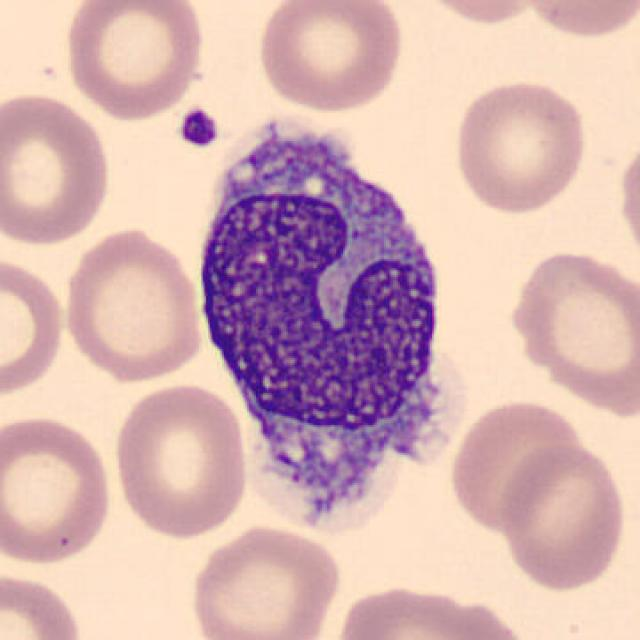Monocyte: (190, 97, 468, 543)
Platelets: (176, 106, 222, 150)
RBC: (57, 222, 208, 384), (503, 245, 638, 420), (109, 379, 252, 541), (496, 439, 629, 592), (444, 395, 586, 538), (450, 74, 590, 217), (183, 522, 345, 640), (0, 88, 116, 250), (0, 411, 116, 569), (60, 0, 208, 122), (253, 0, 407, 115), (329, 580, 519, 640), (0, 248, 69, 402), (0, 569, 87, 640), (516, 0, 638, 41), (407, 0, 546, 28), (613, 132, 640, 268)
